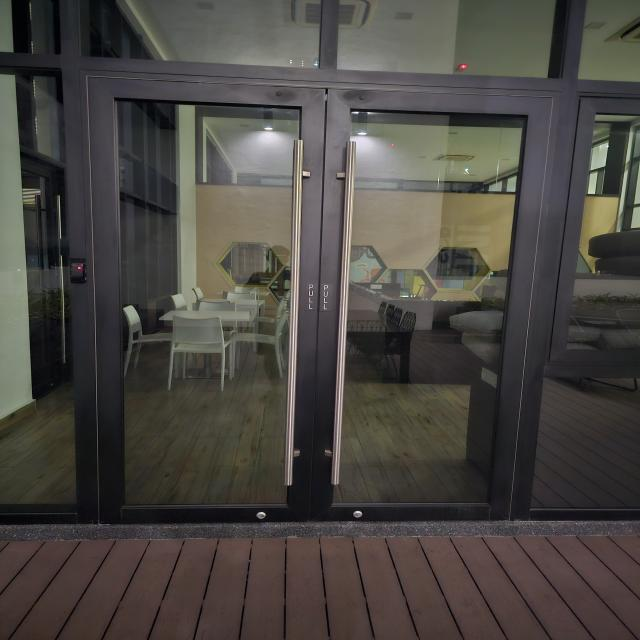door: (42, 49, 574, 532)
footpath: (6, 526, 640, 640)
